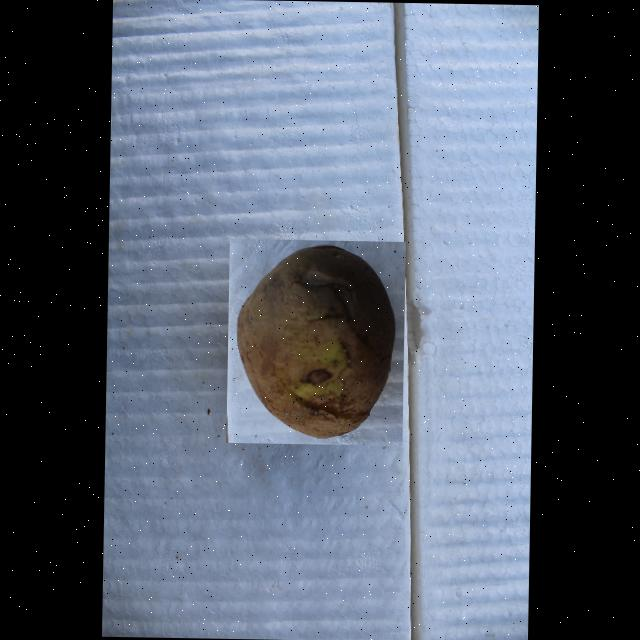Diseased-fungal potato: (226, 238, 406, 444)
